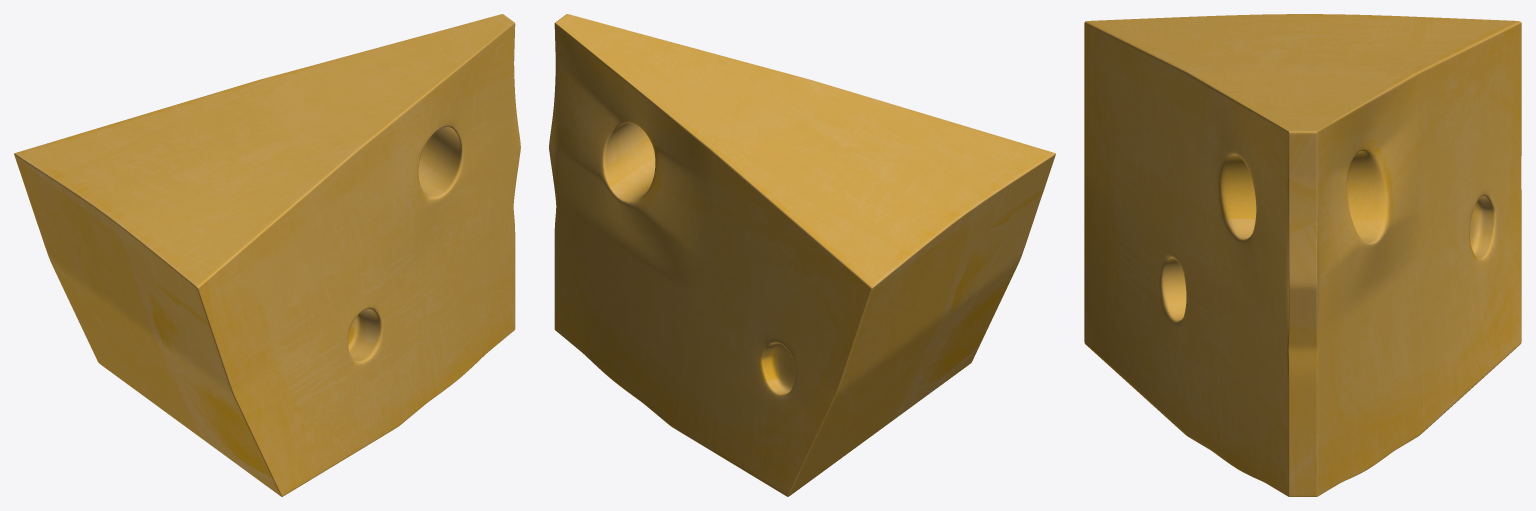
Rendered from CHEESE.fbx.
3 views of the same model, side by side, from view 1: azimuth 30°, elevation 25°; view 2: azimuth 150°, elevation 25°; view 3: azimuth 270°, elevation 25° (orthographic). The views are drawn at different scales.
Visible parts, largest first — view 1: Cheese; view 2: Cheese; view 3: Cheese.
Part boxes in pixels (x1,y1,x2,y2): Cheese: [14, 14, 520, 496]; Cheese: [549, 14, 1055, 496]; Cheese: [1084, 14, 1521, 496].
Size of the model in its own units: 0.3081 by 0.2399 by 0.2395.
1 material, 1 textured.
